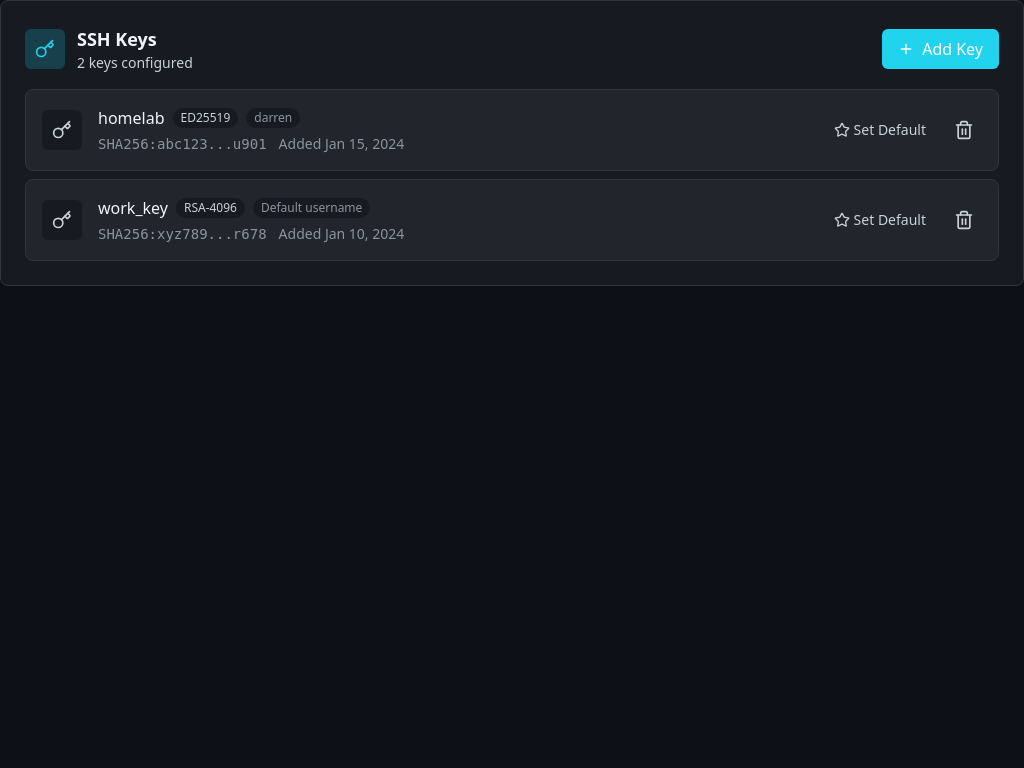
Test: SSHKeyManager › Add Key Modal › opens add modal when clicking Add Key button
Click the button with test id "add-key-button". click: x=941, y=49
box: [882, 29, 999, 69]
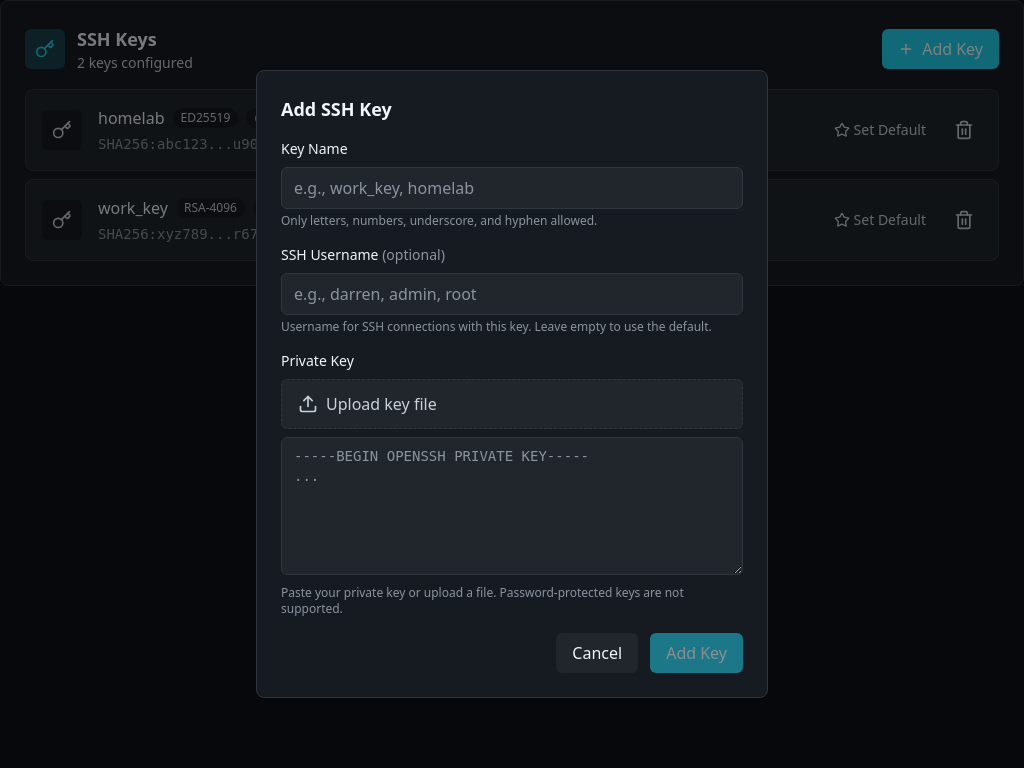
Expected: the heading "Add SSH Key" is shown, [281, 97, 392, 121]
Expected: the field with test id "key-name-input" is shown, [281, 167, 743, 209]
Expected: the field with test id "key-username-input" is shown, [281, 273, 743, 315]
